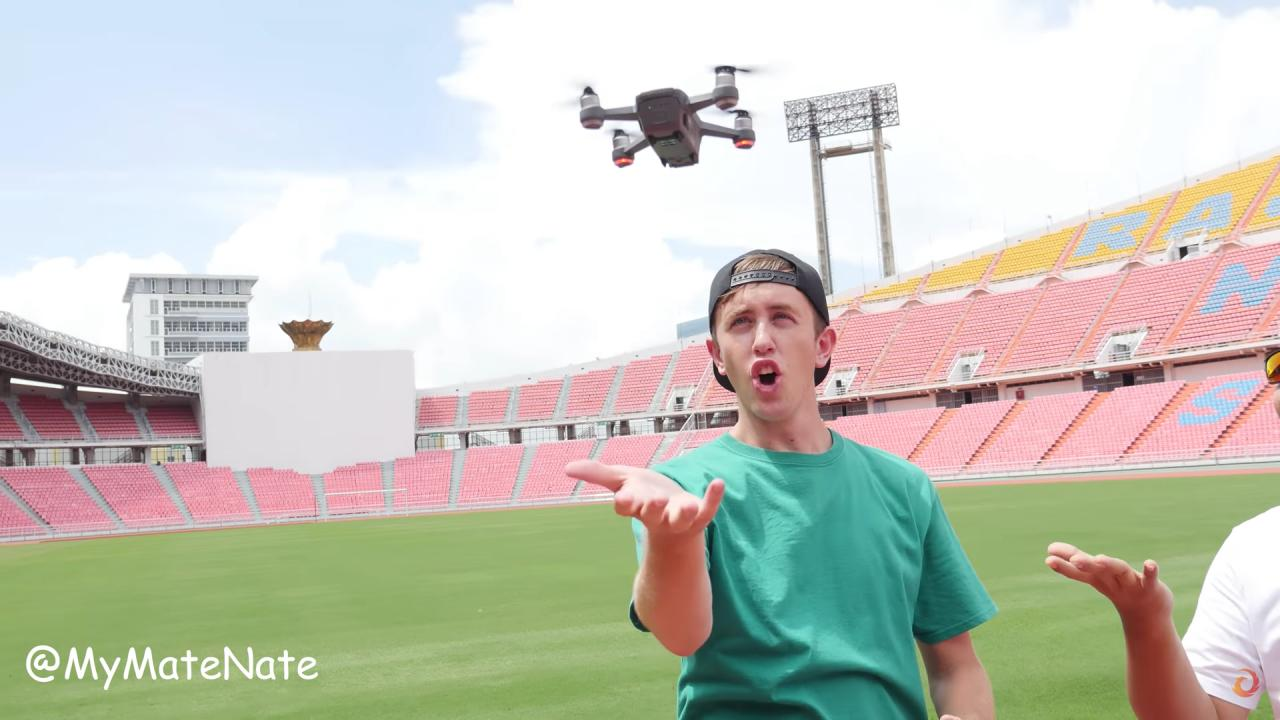Drone: (558, 49, 774, 187)
